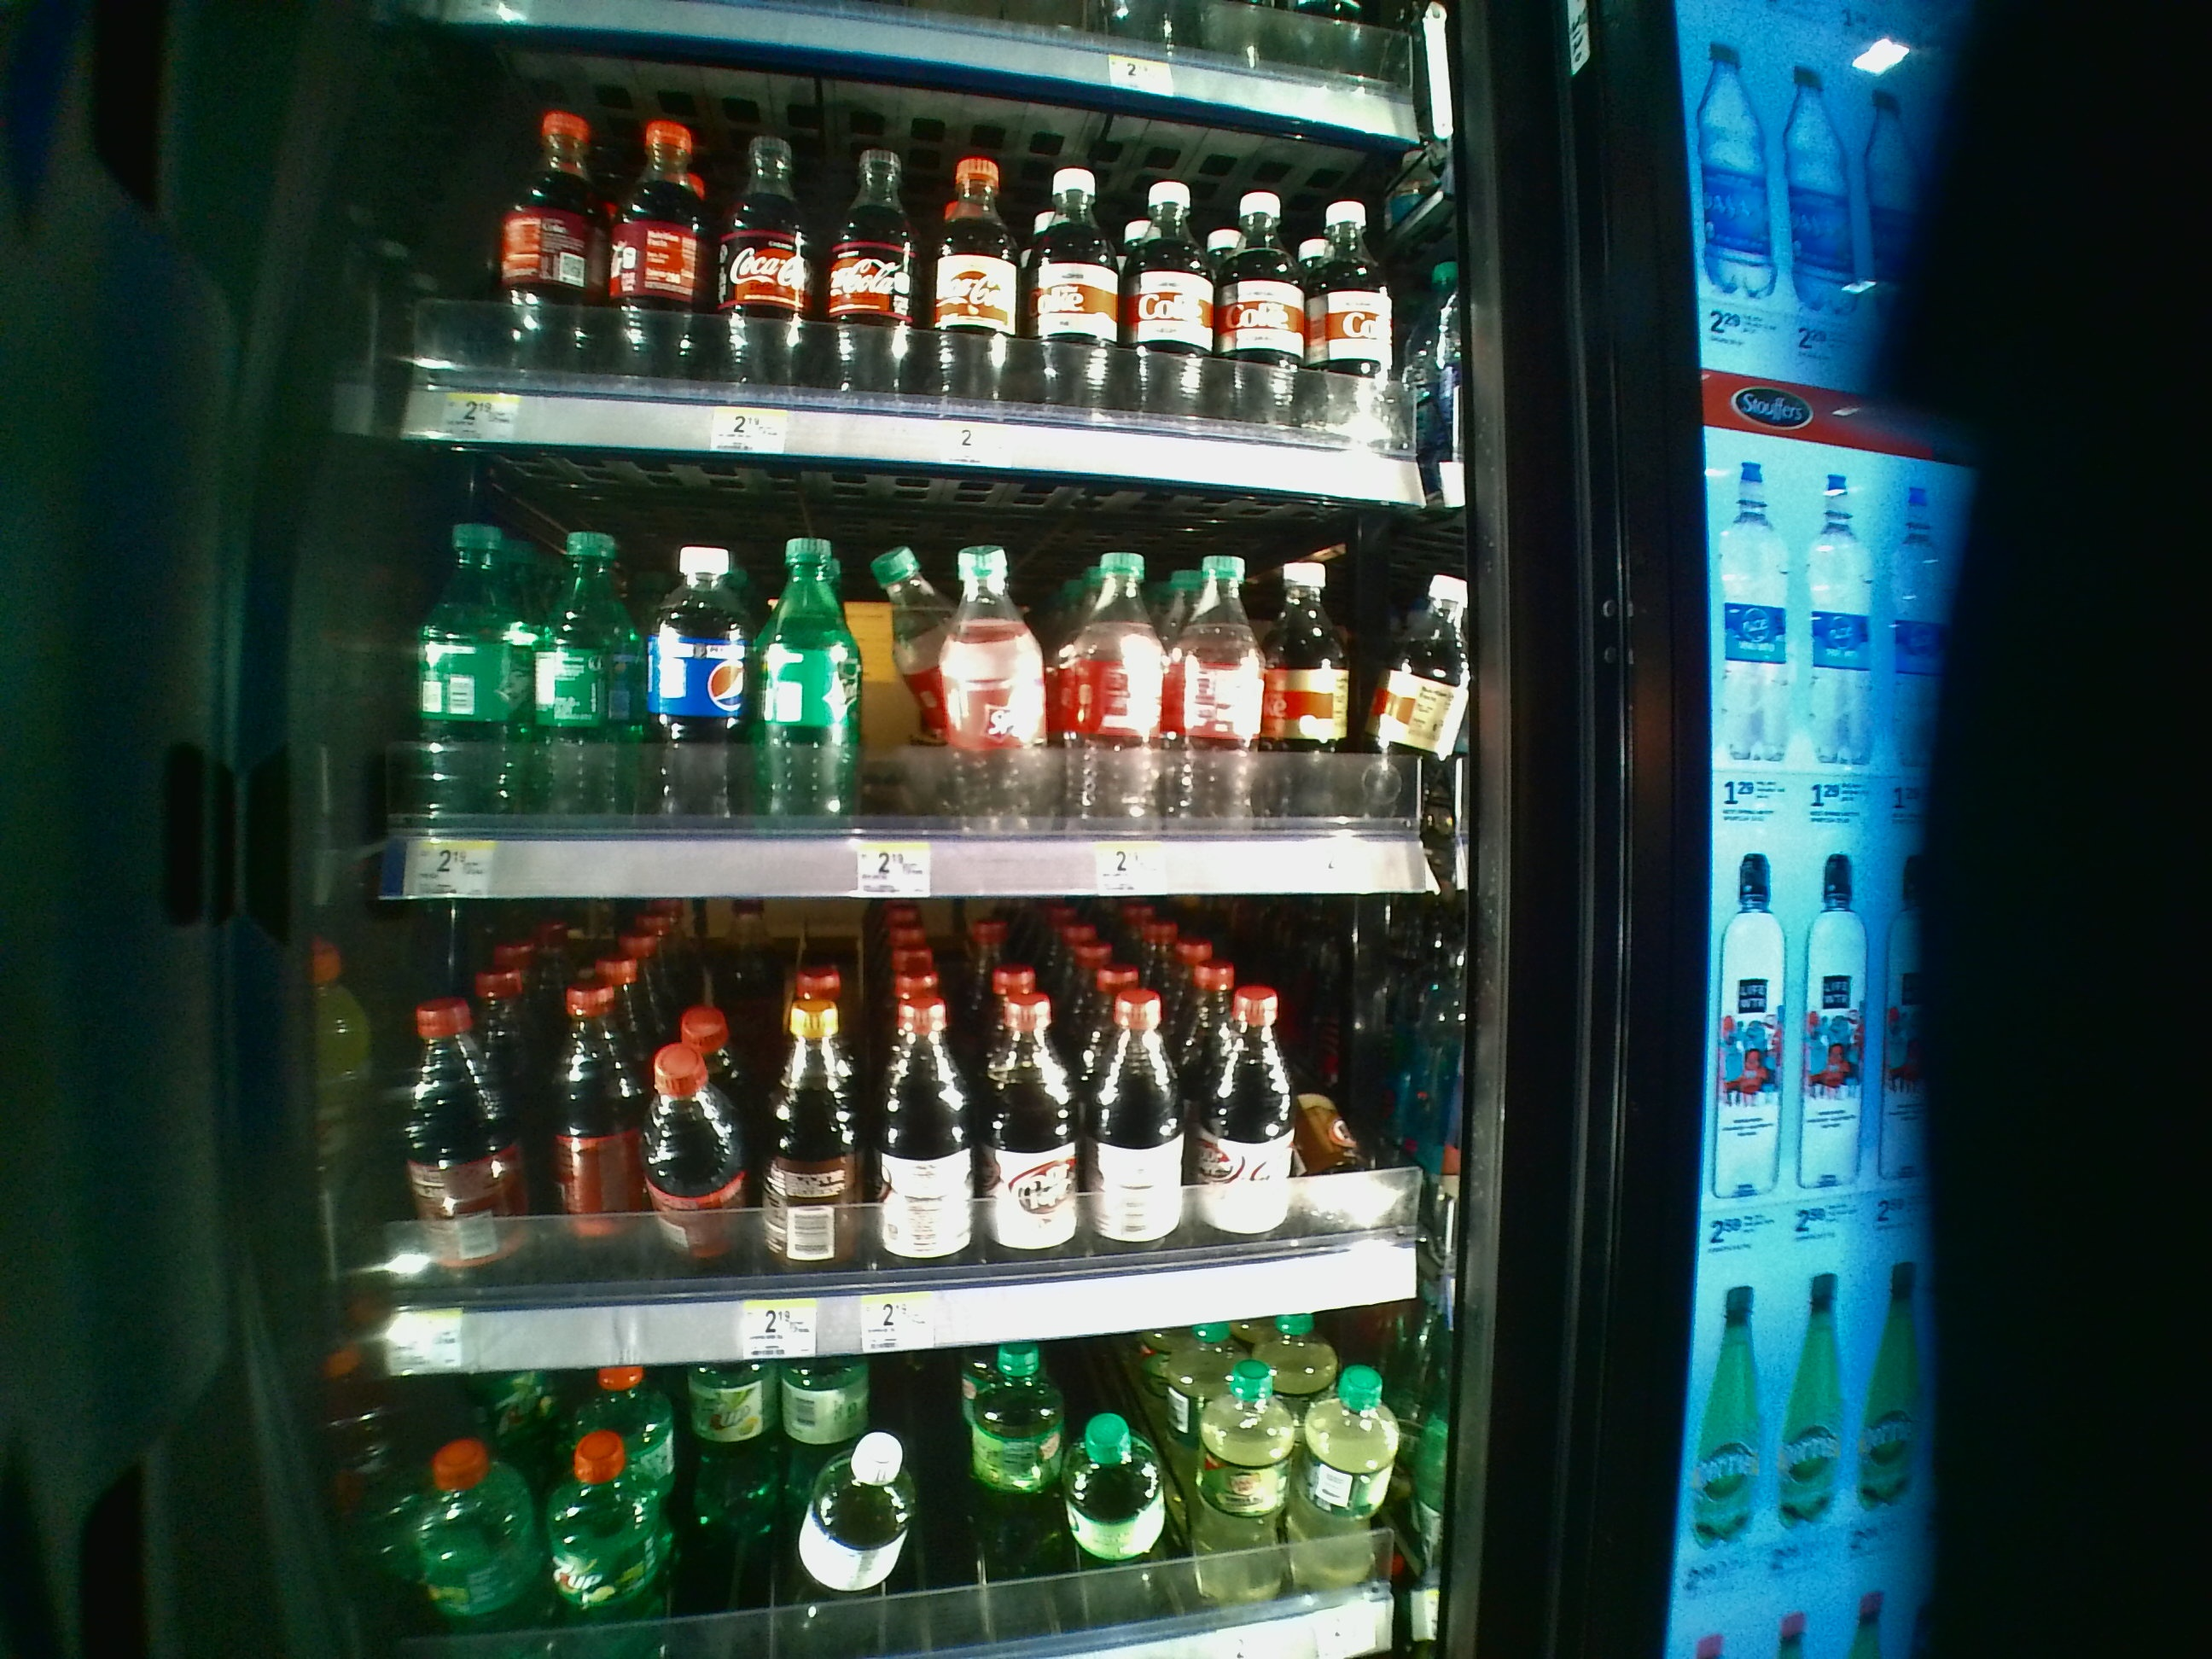shelf: (392, 915, 1425, 1364), (380, 472, 1451, 897)
